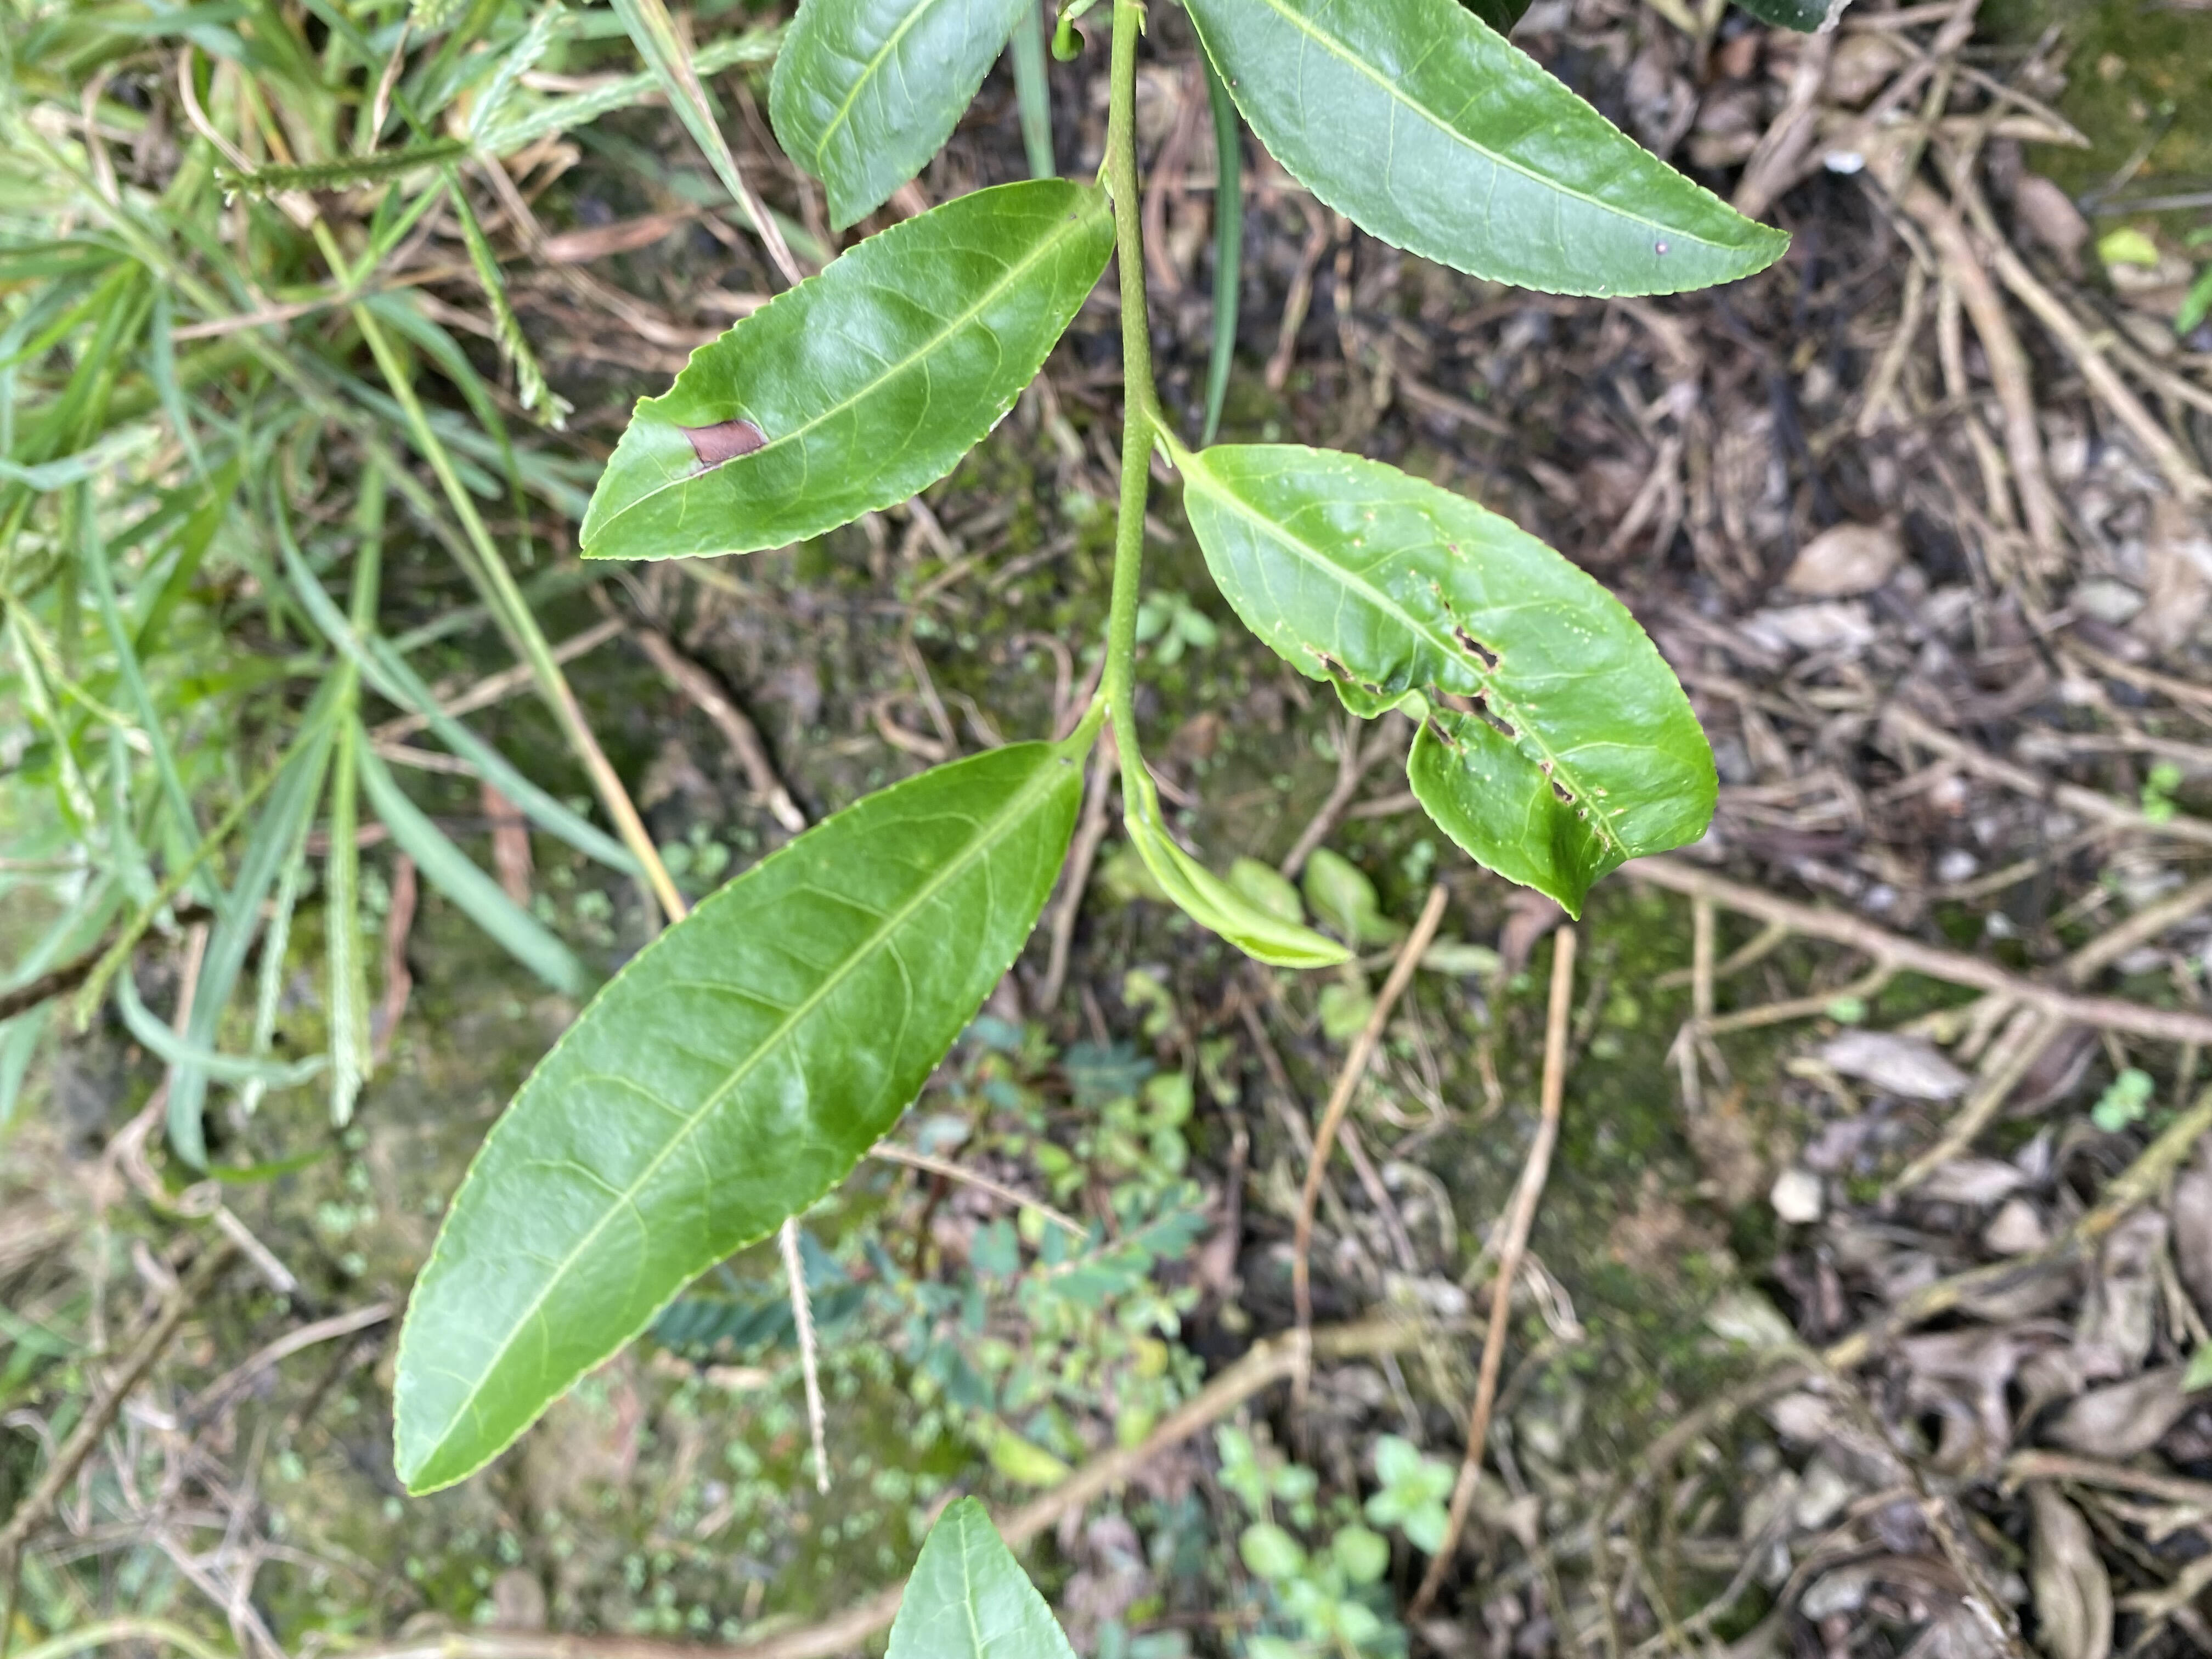chihuo_high: (1183, 441, 1721, 922)
healthy: (390, 739, 1087, 1497), (765, 2, 1024, 235)
tanju_high: (577, 178, 1116, 561)
tanju_low: (1184, 2, 1792, 298)
